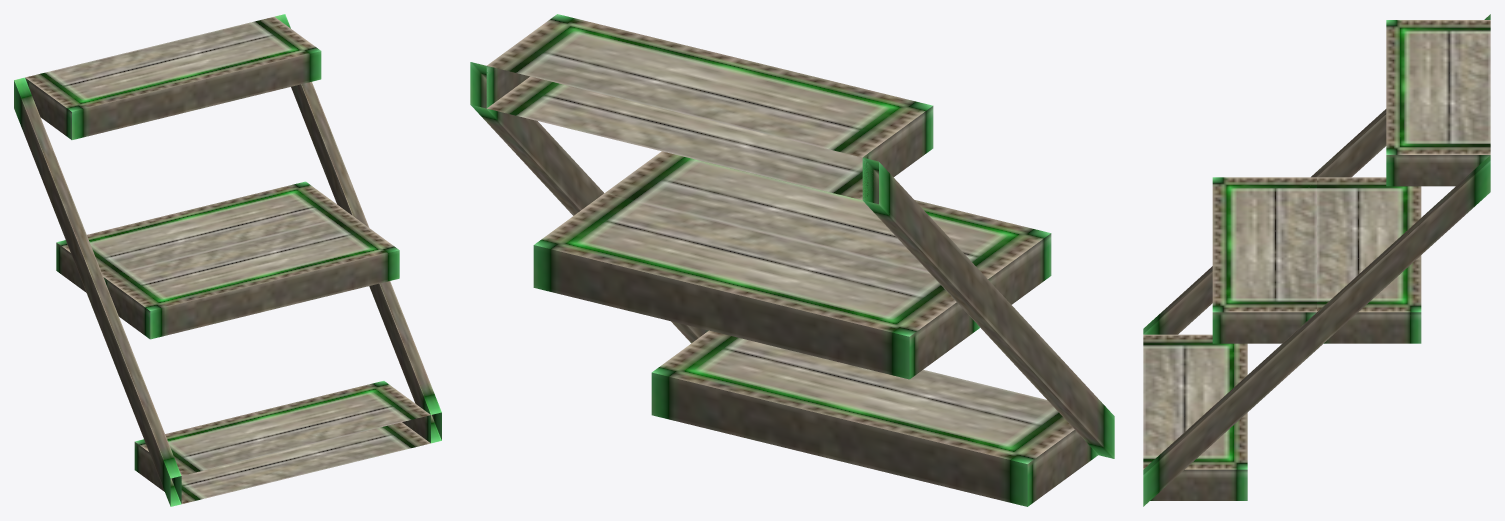
The model's file is stairs.glb.
3 renders of one model, left to right at view 1: azimuth 30°, elevation 25°; view 2: azimuth 150°, elevation 25°; view 3: azimuth 270°, elevation 25°, orthographic. The views are drawn at different scales.
Parts seen in each view (by area): view 1: stair; view 2: stair; view 3: stair.
Part boxes in pixels (left/top/right/bottom): stair: left=14, top=14, right=441, bottom=506; stair: left=470, top=14, right=1114, bottom=506; stair: left=1143, top=14, right=1490, bottom=506.
Bounding box in the file's own units: 5 × 5.5 × 5.
Materials: 1 (1 with a texture image).
